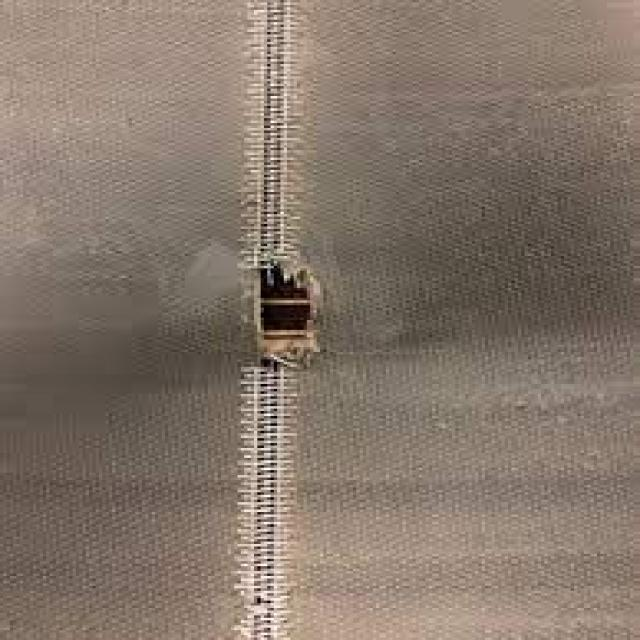Hole: (240, 248, 333, 385)
